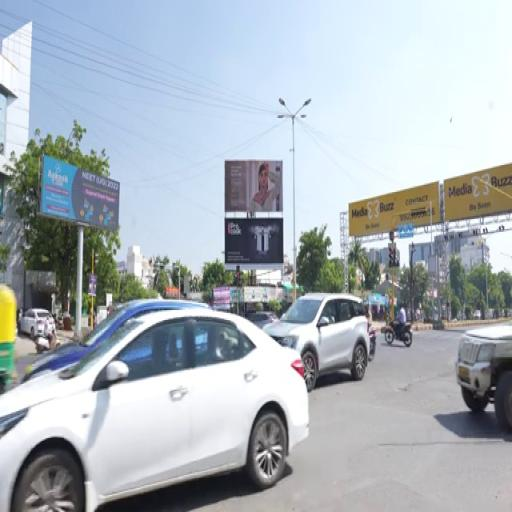Car: (0, 309, 309, 511), (22, 299, 208, 382), (264, 293, 369, 391), (456, 325, 511, 430), (19, 309, 55, 338), (246, 312, 277, 328)
